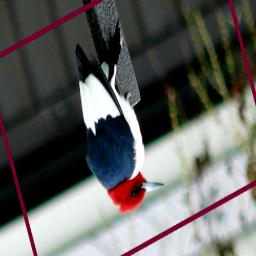Woodpecker: (56, 13, 169, 234)
